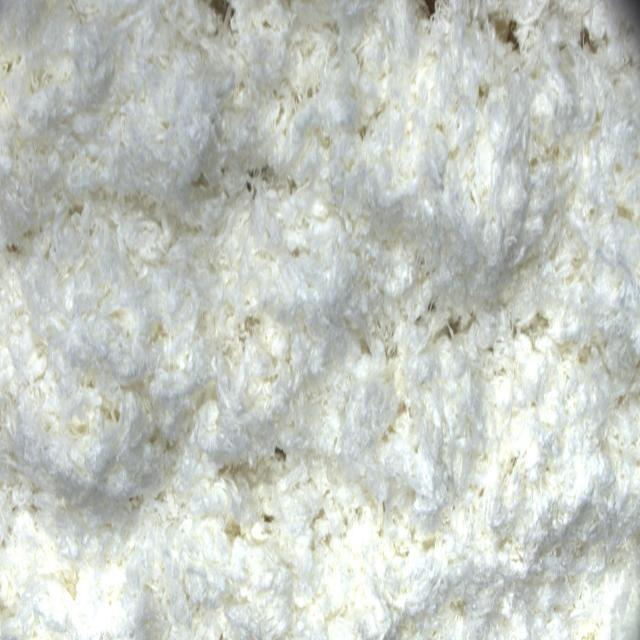dust: (496, 6, 523, 55), (210, 0, 244, 31), (437, 314, 470, 342), (424, 0, 446, 32)
